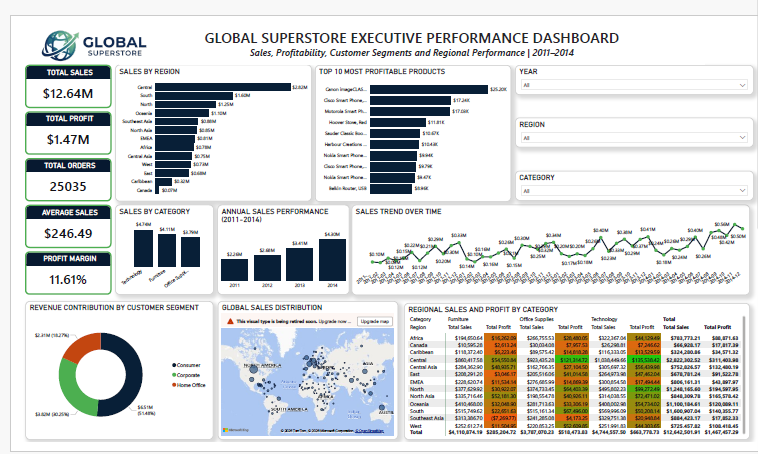

Layout of this report page (visuals, bound fields, positions):
{"tool":"powerbi","page":{"name":"Dashboard","canvas":[1920,1080],"ordinal":0},"visuals":[{"type":"cardVisual","title":"TOTAL SALES","fields":{"Data":["Orders.Total Sales"]},"box":[11.8,101.9,225.4,112.7],"z":0},{"type":"cardVisual","title":"TOTAL PROFIT","fields":{"Data":["Orders.Total Profit"]},"box":[11.8,223,225.4,112.7],"z":1000},{"type":"cardVisual","title":"TOTAL ORDERS","fields":{"Data":["Orders.Total Orders"]},"box":[11.8,344.1,225.4,112.7],"z":2000},{"type":"cardVisual","title":"AVERAGE SALES","fields":{"Data":["Orders.Average Sales"]},"box":[11.8,465.2,225.4,112.7],"z":3000},{"type":"cardVisual","title":"PROFIT MARGIN","fields":{"Data":["Orders.Profit Margin"]},"box":[11.8,586.3,225.4,112.7],"z":4000},{"type":"clusteredBarChart","title":"SALES BY REGION","fields":{"Category":["Orders.Region"],"Y":["Orders.Total Sales"]},"box":[246.5,101.9,509.6,354.9],"z":5000},{"type":"clusteredBarChart","title":"TOP 10 MOST PROFITABLE PRODUCTS","fields":{"Category":["Orders.Product Name"],"Y":["Orders.Total Profit"]},"box":[763.5,102.6,509,355.3],"z":6000},{"type":"clusteredColumnChart","title":"SALES BY CATEGORY","fields":{"Category":["Orders.Category"],"Y":["Orders.Total Sales"]},"box":[246.5,465.2,255.7,233.8],"z":7000},{"type":"clusteredColumnChart","title":"ANNUAL SALES PERFORMANCE (2011-2014)","fields":{"Category":["DateTable.Year"],"Y":["Orders.Total Sales"]},"box":[510.5,465.2,343.1,233.8],"z":8000},{"type":"lineChart","title":"SALES TREND OVER TIME","fields":{"Y":["Orders.Total Sales"],"Category":["DateTable.Year Month"]},"box":[859.3,465.4,1033.1,234.3],"z":9000},{"type":"donutChart","title":"REVENUE CONTRIBUTION BY CUSTOMER SEGMENT","fields":{"Category":["Orders.Segment"],"Y":["Orders.Total Sales"]},"box":[12.7,714.9,488.8,360.3],"z":10000},{"type":"map","title":"GLOBAL SALES DISTRIBUTION","fields":{"Category":["Orders.Country"],"Size":["Orders.Total Sales"]},"box":[511.6,714.9,468.7,360.3],"z":11000},{"type":"pivotTable","title":"REGIONAL SALES AND PROFIT BY CATEGORY","fields":{"Rows":["Orders.Region"],"Columns":["Orders.Category"],"Values":["Orders.Total Sales","Orders.Total Profit"]},"box":[995.3,719.9,897,355.3],"z":12000},{"type":"slicer","title":"YEAR","fields":{"Values":["DateTable.Year"]},"box":[1282.6,102.6,619.8,78.1],"z":13000},{"type":"slicer","title":"REGION","fields":{"Values":["Orders.Region"]},"box":[1282.6,238.7,619.8,78.1],"z":14000},{"type":"slicer","title":"CATEGORY","fields":{"Values":["Orders.Category"]},"box":[1282.6,376.9,619.8,78.1],"z":15000},{"type":"textbox","box":[257.5,0,1515,102.5],"z":16000},{"type":"image","box":[12.5,0,362.5,102.5],"z":17000}]}

Visuals, with their boxes on the page's 1920x1080 design canvas (x1, y1, x2, y2). These are canvas units, not pixel positions in the 758x454 screenshot, which may show the page scaled, cropped or inside an application window:
"TOTAL SALES" cardVisual: (12, 102, 237, 215)
"TOTAL PROFIT" cardVisual: (12, 223, 237, 336)
"TOTAL ORDERS" cardVisual: (12, 344, 237, 457)
"AVERAGE SALES" cardVisual: (12, 465, 237, 578)
"PROFIT MARGIN" cardVisual: (12, 586, 237, 699)
"SALES BY REGION" clusteredBarChart: (246, 102, 756, 457)
"TOP 10 MOST PROFITABLE PRODUCTS" clusteredBarChart: (764, 103, 1272, 458)
"SALES BY CATEGORY" clusteredColumnChart: (246, 465, 502, 699)
"ANNUAL SALES PERFORMANCE (2011-2014)" clusteredColumnChart: (510, 465, 854, 699)
"SALES TREND OVER TIME" lineChart: (859, 465, 1892, 700)
"REVENUE CONTRIBUTION BY CUSTOMER SEGMENT" donutChart: (13, 715, 502, 1075)
"GLOBAL SALES DISTRIBUTION" map: (512, 715, 980, 1075)
"REGIONAL SALES AND PROFIT BY CATEGORY" pivotTable: (995, 720, 1892, 1075)
"YEAR" slicer: (1283, 103, 1902, 181)
"REGION" slicer: (1283, 239, 1902, 317)
"CATEGORY" slicer: (1283, 377, 1902, 455)
textbox: (258, 0, 1772, 102)
image: (12, 0, 375, 102)
